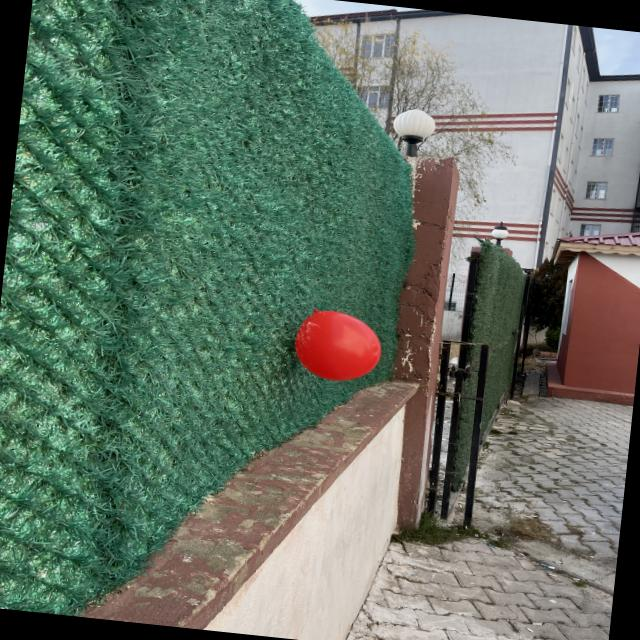balloon: (295, 309, 381, 380)
